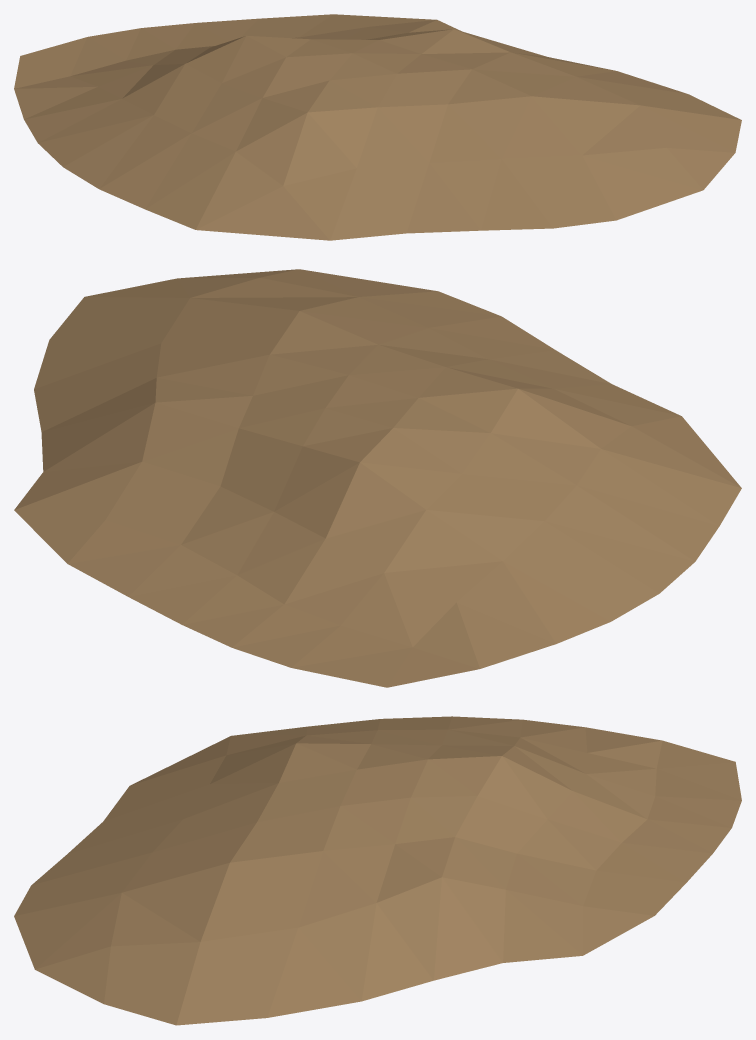
File: SM_Env_GroundMounds_02.fbx
3 views of the same model, one above another, from view 1: azimuth 30°, elevation 25°; view 2: azimuth 150°, elevation 25°; view 3: azimuth 270°, elevation 25° (orthographic). The views are drawn at different scales.
Parts seen in each view (by area): view 1: SM_Env_GroundMounds_02; view 2: SM_Env_GroundMounds_02; view 3: SM_Env_GroundMounds_02.
Part boxes in pixels (x1,y1,x2,y2): SM_Env_GroundMounds_02: (14, 14, 741, 240); SM_Env_GroundMounds_02: (14, 269, 741, 687); SM_Env_GroundMounds_02: (14, 716, 741, 1025).
Size of the model in its own units: 0.0504 by 0.00569 by 0.0502.
Materials: 1 (1 with a texture image).
